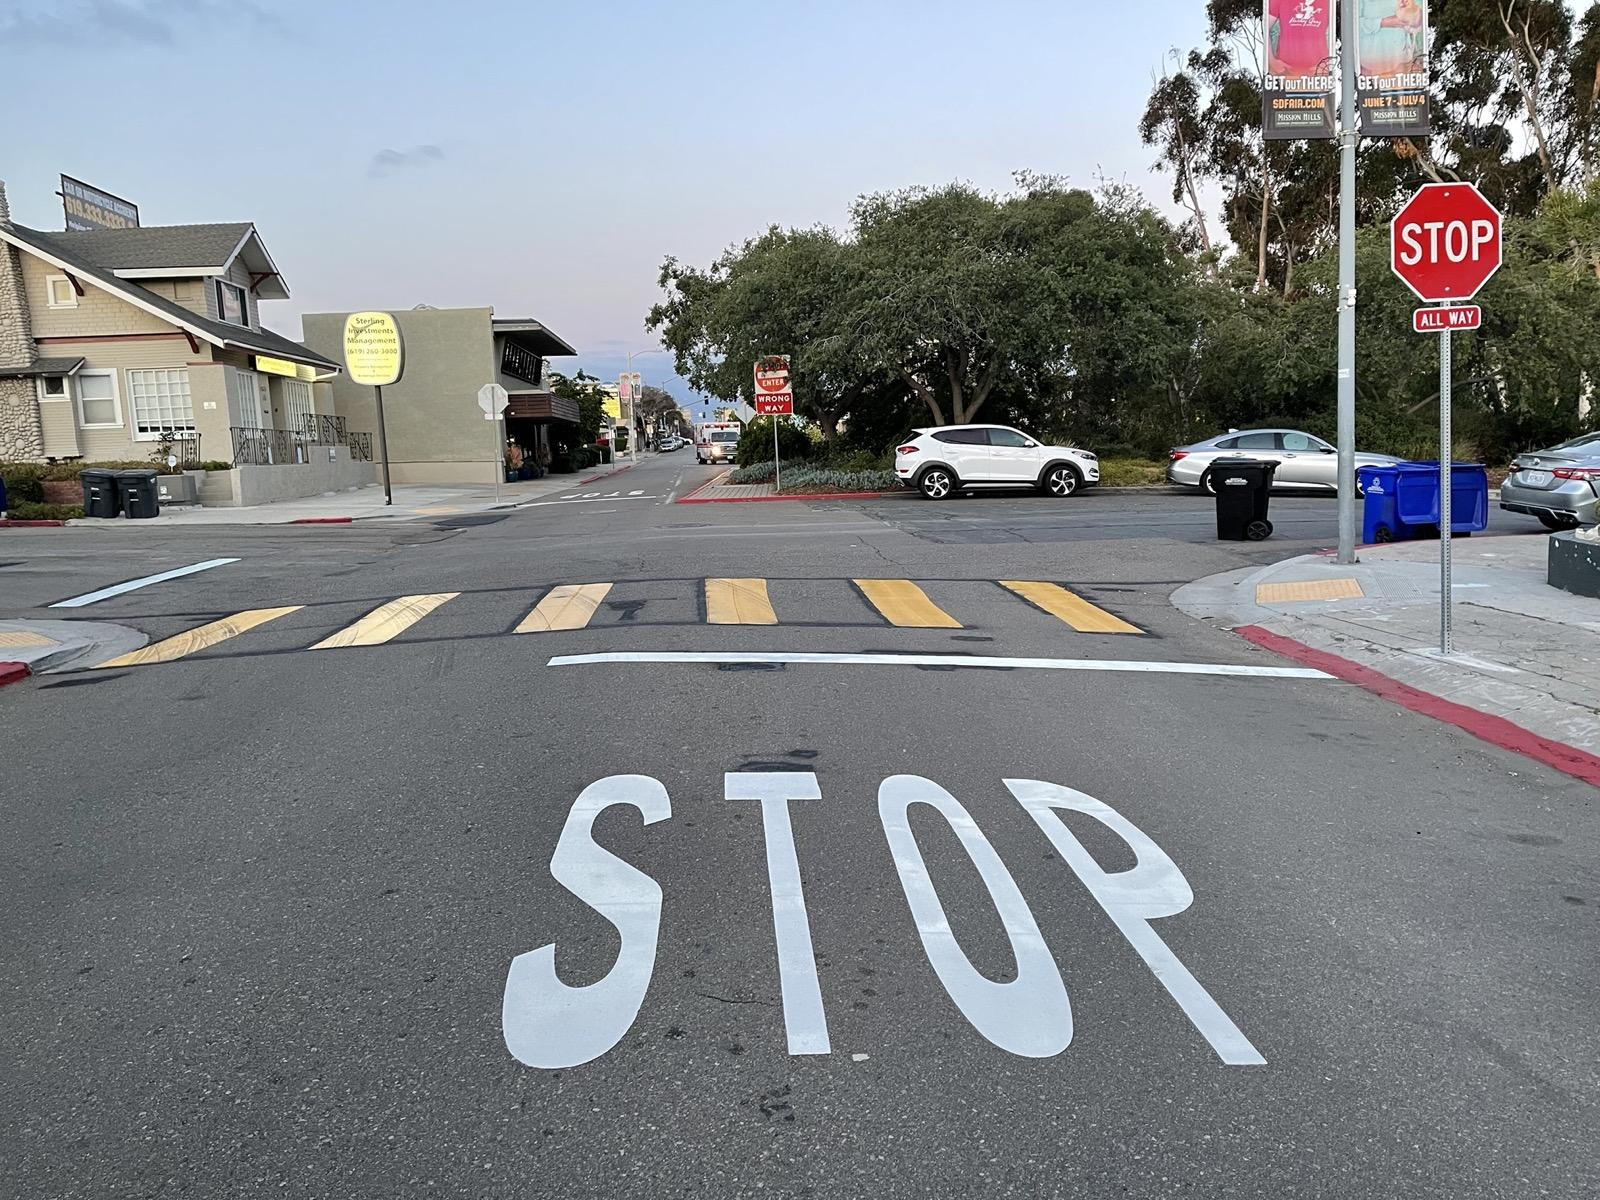Pole: (1435, 330, 1455, 650)
Sign: (1390, 185, 1503, 304)
